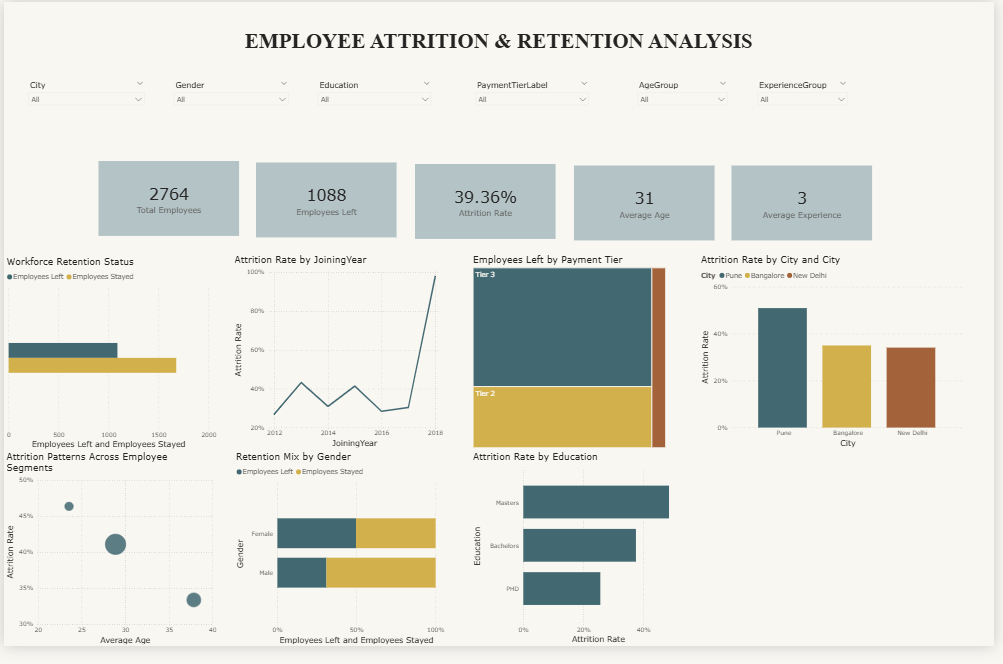

The dashboard page shown, as its layout file describes it:
{"tool":"powerbi","page":{"name":"Page 1","canvas":[2000,1300],"ordinal":0},"visuals":[{"type":"card","fields":{"Values":["employee_analysis employee_clean.Total Employees"]},"box":[190,321.6,284.3,151],"z":0},{"type":"clusteredBarChart","title":"Workforce Retention Status","fields":{"Y":["employee_analysis employee_clean.Employees Left","employee_analysis employee_clean.Employees Stayed"]},"box":[0,511.6,434.1,395.7],"z":1000},{"type":"lineChart","fields":{"Category":["employee_analysis employee_clean.JoiningYear"],"Y":["employee_analysis employee_clean.Attrition Rate"]},"box":[461.9,508.7,431.1,395.7],"z":2000},{"type":"treemap","title":"Employees Left by Payment Tier","fields":{"Group":["employee_analysis employee_clean.PaymentTierLabel"],"Values":["employee_analysis employee_clean.Employees Left"]},"box":[941.4,508.7,398.6,395.7],"z":3000},{"type":"clusteredBarChart","fields":{"Category":["employee_analysis employee_clean.City"],"Y":["employee_analysis employee_clean.Attrition Rate"]},"box":[1403.3,508.7,540.4,395.7],"z":4000},{"type":"card","fields":{"Values":["employee_analysis employee_clean.Employees Left"]},"box":[508.7,324.5,284.3,151],"z":5000},{"type":"card","fields":{"Values":["employee_analysis employee_clean.Average Experience"]},"box":[1470.6,330.4,284.3,151],"z":6000},{"type":"card","fields":{"Values":["employee_analysis employee_clean.Average Age"]},"box":[1151.9,330.4,284.3,151],"z":7000},{"type":"card","fields":{"Values":["employee_analysis employee_clean.Attrition Rate"]},"box":[830.3,327.4,284.3,151],"z":8000},{"type":"textbox","box":[0,0,1999,168.8],"z":9000},{"type":"scatterChart","title":"Attrition Patterns Across Employee Segments","fields":{"Category":["employee_analysis employee_clean.AgeGroup"],"Size":["employee_analysis employee_clean.Total Employees"],"X":["employee_analysis employee_clean.Average Age"],"Y":["employee_analysis employee_clean.Attrition Rate"]},"box":[0,906.3,434,396],"z":10000},{"type":"hundredPercentStackedBarChart","title":"Retention Mix by Gender","fields":{"Category":["employee_analysis employee_clean.Gender"],"Y":["employee_analysis employee_clean.Employees Left","employee_analysis employee_clean.Employees Stayed"]},"box":[464.9,906.3,431,396],"z":11000},{"type":"slicer","fields":{"Values":["employee_analysis employee_clean.City"]},"box":[38,152,254.4,134.5],"z":12000},{"type":"slicer","fields":{"Values":["employee_analysis employee_clean.Gender"]},"box":[333.3,152,251.4,134.5],"z":13000},{"type":"slicer","fields":{"Values":["employee_analysis employee_clean.Education"]},"box":[622.7,152,248.5,134.5],"z":14000},{"type":"slicer","fields":{"Values":["employee_analysis employee_clean.PaymentTierLabel"]},"box":[941.4,152,248.5,134.5],"z":15000},{"type":"slicer","fields":{"Values":["employee_analysis employee_clean.AgeGroup"]},"box":[1268.8,152,201.7,134.5],"z":16000},{"type":"slicer","fields":{"Values":["employee_analysis employee_clean.ExperienceGroup"]},"box":[1511.5,152,201.7,134.5],"z":17000},{"type":"clusteredBarChart","fields":{"Category":["employee_analysis employee_clean.Education"],"Y":["employee_analysis employee_clean.Attrition Rate"]},"box":[941.4,906.3,429.8,394.7],"z":18000}]}

Visuals, with their boxes in screenshot pixels (x1, y1, x2, y2), scaled from the page's 2000x1300 canvas onto the 1003x664 screenshot:
card - employee_analysis employee_clean.Total Employees: {"left": 95, "top": 164, "right": 238, "bottom": 241}
"Workforce Retention Status" clusteredBarChart: {"left": 0, "top": 261, "right": 218, "bottom": 463}
lineChart - employee_analysis employee_clean.JoiningYear x employee_analysis employee_clean.Attrition Rate: {"left": 232, "top": 260, "right": 448, "bottom": 462}
"Employees Left by Payment Tier" treemap: {"left": 472, "top": 260, "right": 672, "bottom": 462}
clusteredBarChart - employee_analysis employee_clean.City x employee_analysis employee_clean.Attrition Rate: {"left": 704, "top": 260, "right": 975, "bottom": 462}
card - employee_analysis employee_clean.Employees Left: {"left": 255, "top": 166, "right": 398, "bottom": 243}
card - employee_analysis employee_clean.Average Experience: {"left": 738, "top": 169, "right": 880, "bottom": 246}
card - employee_analysis employee_clean.Average Age: {"left": 578, "top": 169, "right": 720, "bottom": 246}
card - employee_analysis employee_clean.Attrition Rate: {"left": 416, "top": 167, "right": 559, "bottom": 244}
textbox: {"left": 0, "top": 0, "right": 1002, "bottom": 86}
"Attrition Patterns Across Employee Segments" scatterChart: {"left": 0, "top": 463, "right": 218, "bottom": 663}
"Retention Mix by Gender" hundredPercentStackedBarChart: {"left": 233, "top": 463, "right": 449, "bottom": 663}
slicer - employee_analysis employee_clean.City: {"left": 19, "top": 78, "right": 147, "bottom": 146}
slicer - employee_analysis employee_clean.Gender: {"left": 167, "top": 78, "right": 293, "bottom": 146}
slicer - employee_analysis employee_clean.Education: {"left": 312, "top": 78, "right": 437, "bottom": 146}
slicer - employee_analysis employee_clean.PaymentTierLabel: {"left": 472, "top": 78, "right": 597, "bottom": 146}
slicer - employee_analysis employee_clean.AgeGroup: {"left": 636, "top": 78, "right": 737, "bottom": 146}
slicer - employee_analysis employee_clean.ExperienceGroup: {"left": 758, "top": 78, "right": 859, "bottom": 146}
clusteredBarChart - employee_analysis employee_clean.Education x employee_analysis employee_clean.Attrition Rate: {"left": 472, "top": 463, "right": 688, "bottom": 663}
